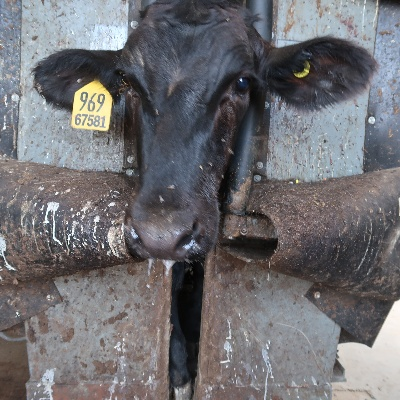fidget_spinner: (120, 205, 205, 267)
